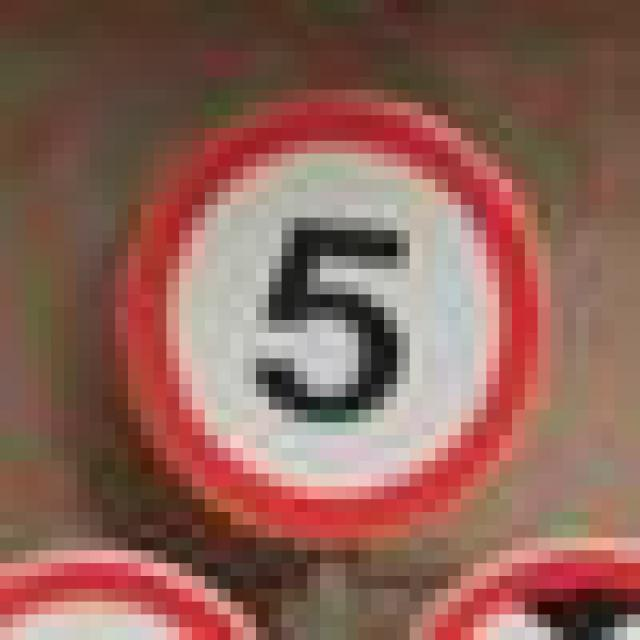SPEED_LIMIT_5: (102, 77, 538, 525)
